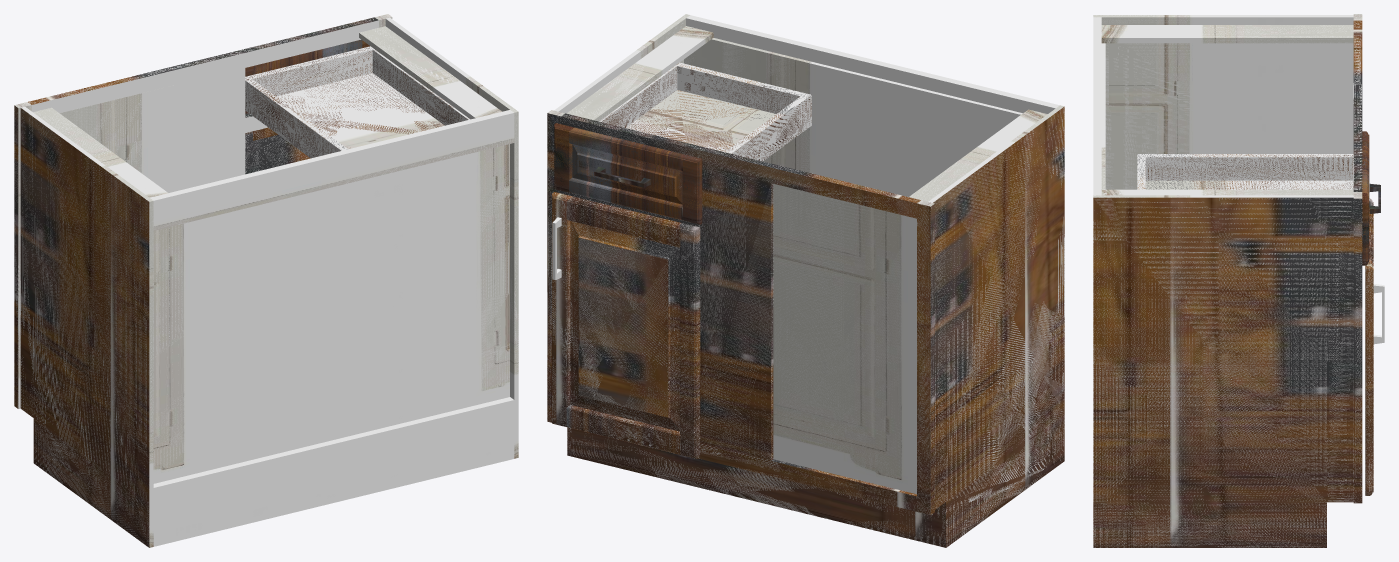
3 views of the same model, side by side, from view 1: azimuth 30°, elevation 25°; view 2: azimuth 150°, elevation 25°; view 3: azimuth 270°, elevation 25° (orthographic). The views are drawn at different scales.
Parts seen in each view (by area): view 1: mesh4_mesh4-geometry, mesh1_mesh1-geometry, mesh8_mesh8-geometry, mesh2_mesh2-geometry; view 2: mesh4_mesh4-geometry, mesh8_mesh8-geometry, mesh1_mesh1-geometry, mesh2_mesh2-geometry; view 3: mesh4_mesh4-geometry, mesh1_mesh1-geometry, mesh8_mesh8-geometry, mesh2_mesh2-geometry.
Part boxes in pixels (x1=…): mesh4_mesh4-geometry: x1=14, y1=14, x2=518, y2=547; mesh1_mesh1-geometry: x1=245, y1=46, x2=469, y2=158; mesh8_mesh8-geometry: x1=245, y1=127, x2=310, y2=174; mesh2_mesh2-geometry: x1=245, y1=39, x2=369, y2=113; mesh4_mesh4-geometry: x1=547, y1=14, x2=1064, y2=547; mesh8_mesh8-geometry: x1=552, y1=192, x2=700, y2=458; mesh1_mesh1-geometry: x1=599, y1=62, x2=811, y2=161; mesh2_mesh2-geometry: x1=554, y1=123, x2=702, y2=224; mesh4_mesh4-geometry: x1=1093, y1=14, x2=1362, y2=547; mesh1_mesh1-geometry: x1=1137, y1=154, x2=1353, y2=189; mesh8_mesh8-geometry: x1=1365, y1=198, x2=1373, y2=495; mesh2_mesh2-geometry: x1=1362, y1=131, x2=1369, y2=265.
Size of the model in its own units: 0.67 by 0.5927 by 0.447.
